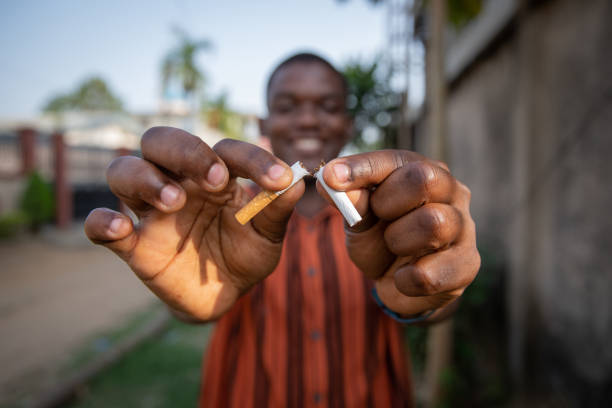cigarette: (234, 158, 311, 227), (314, 161, 363, 229)
